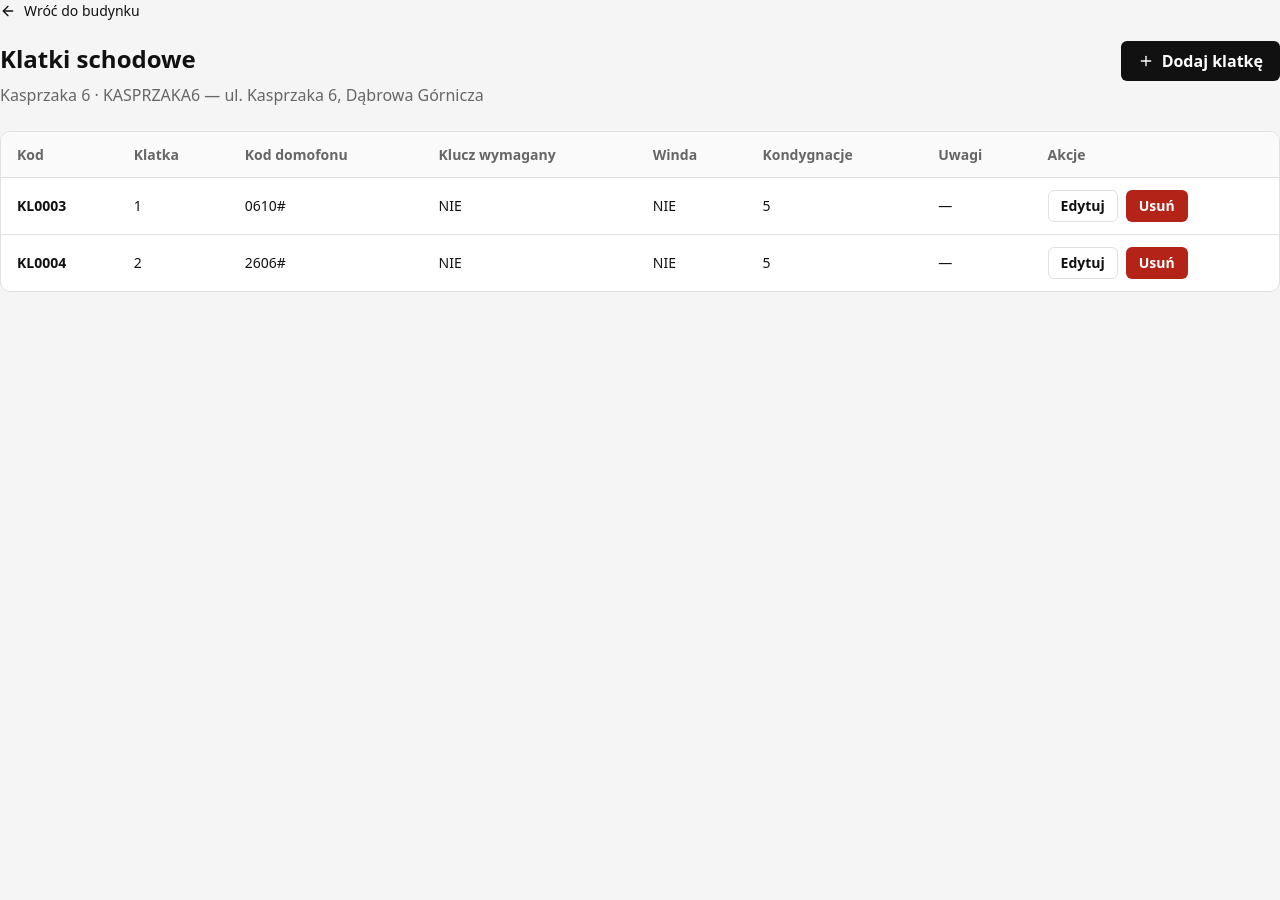
BuildingStaircasesPage › updates staircase successfully
Expected: the text "KL0003" is shown, top-left (1, 177), bottom-right (118, 234)
Click the button "Edytuj" in the row of "KL0003" at (1083, 206), box top-left (1048, 190), bottom-right (1118, 222)
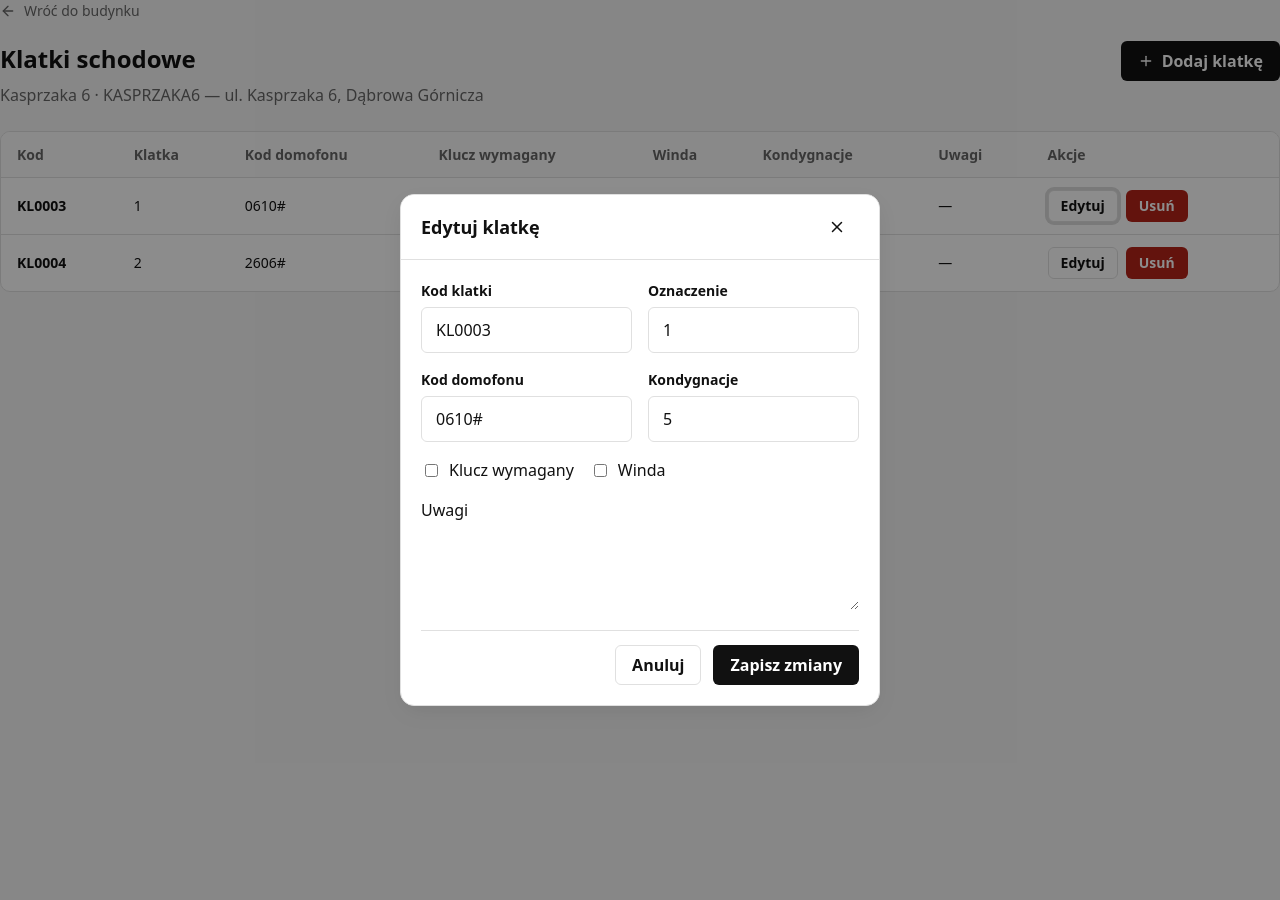
Replace the text in the field labelled "Kod domofonu" with "9999#" at (526, 419), box top-left (421, 396), bottom-right (632, 442)
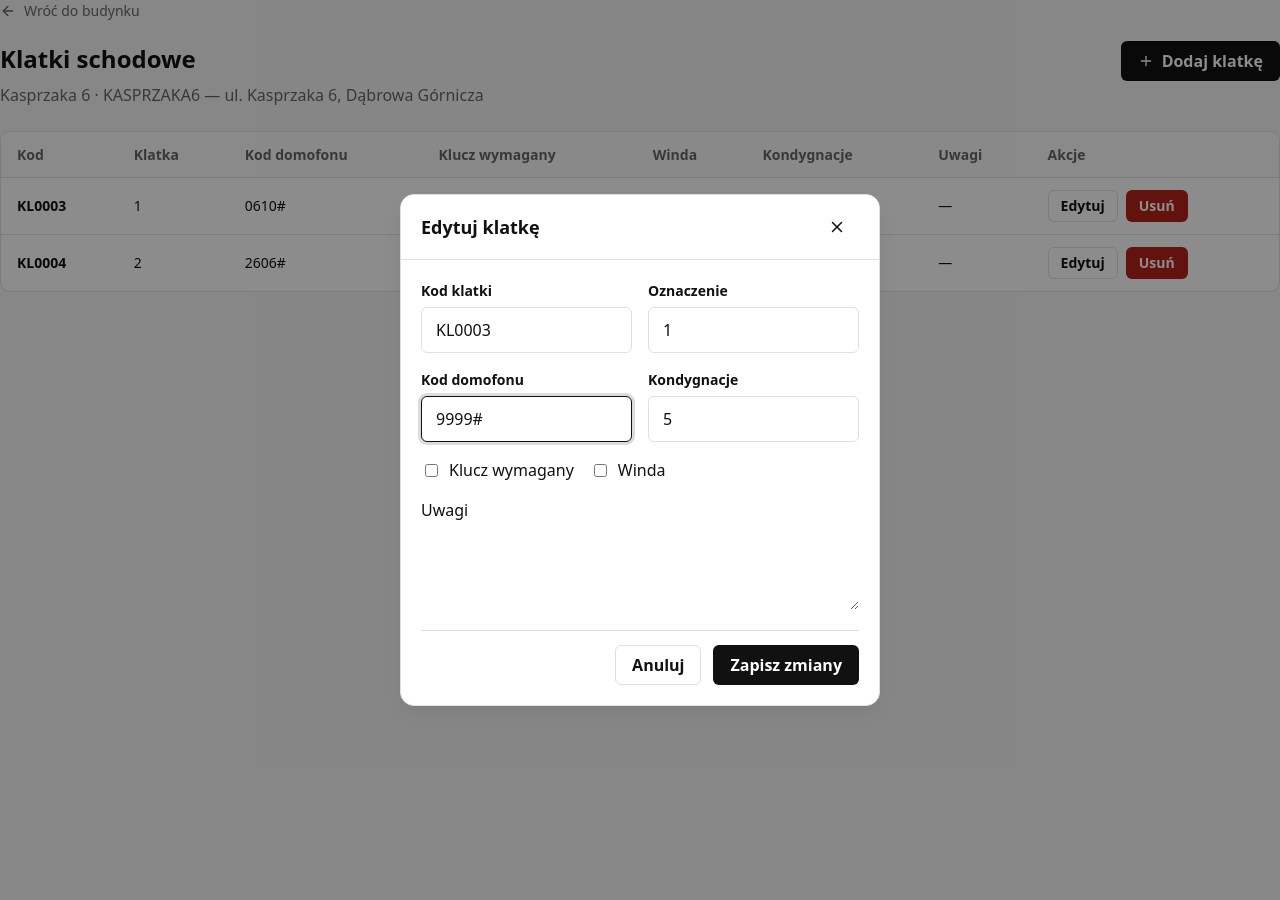
Click the button "Zapisz zmiany" at (786, 665), box top-left (714, 645), bottom-right (859, 685)
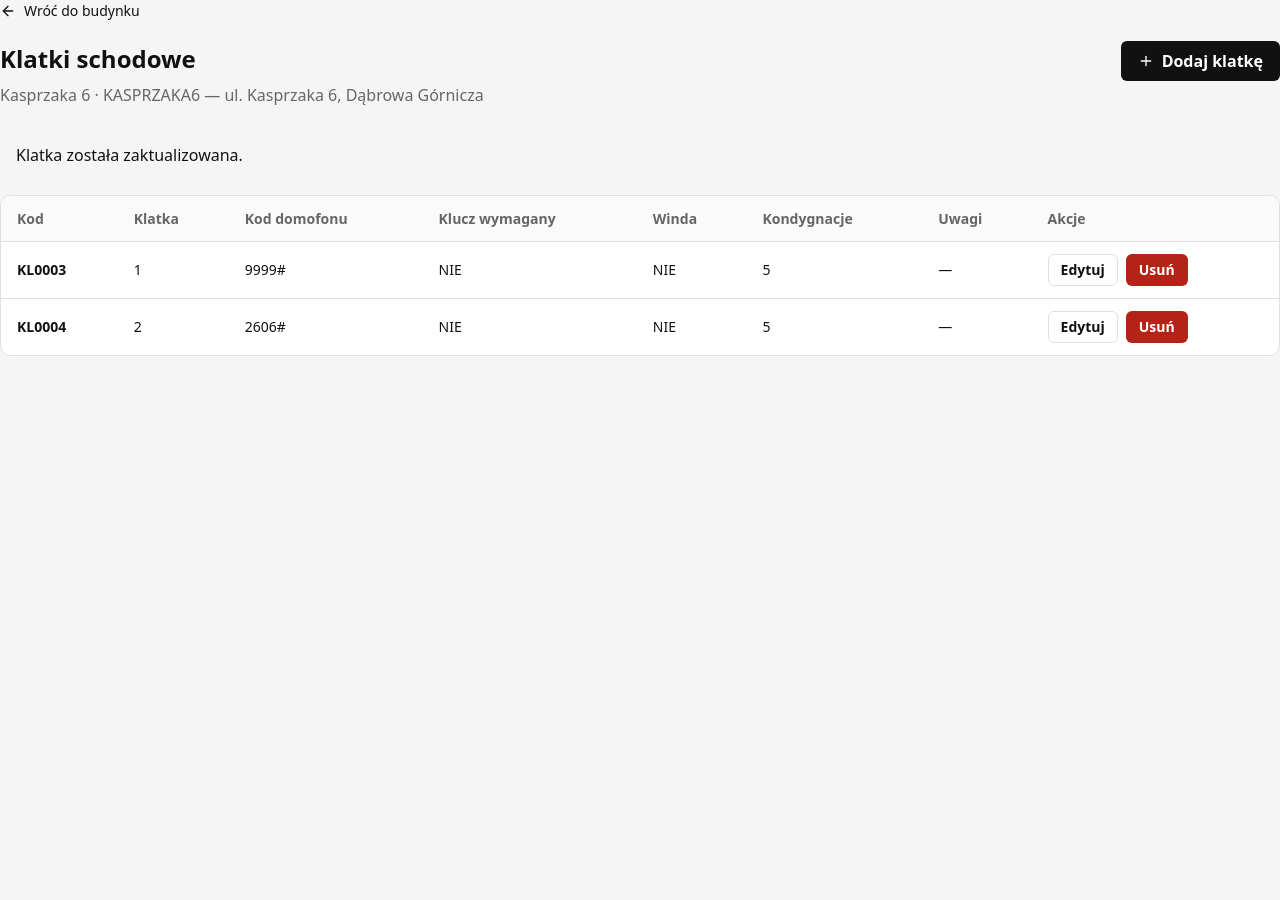
Result: the text "Klatka została zaktualizowana." is shown at top-left (16, 144), bottom-right (243, 166)
